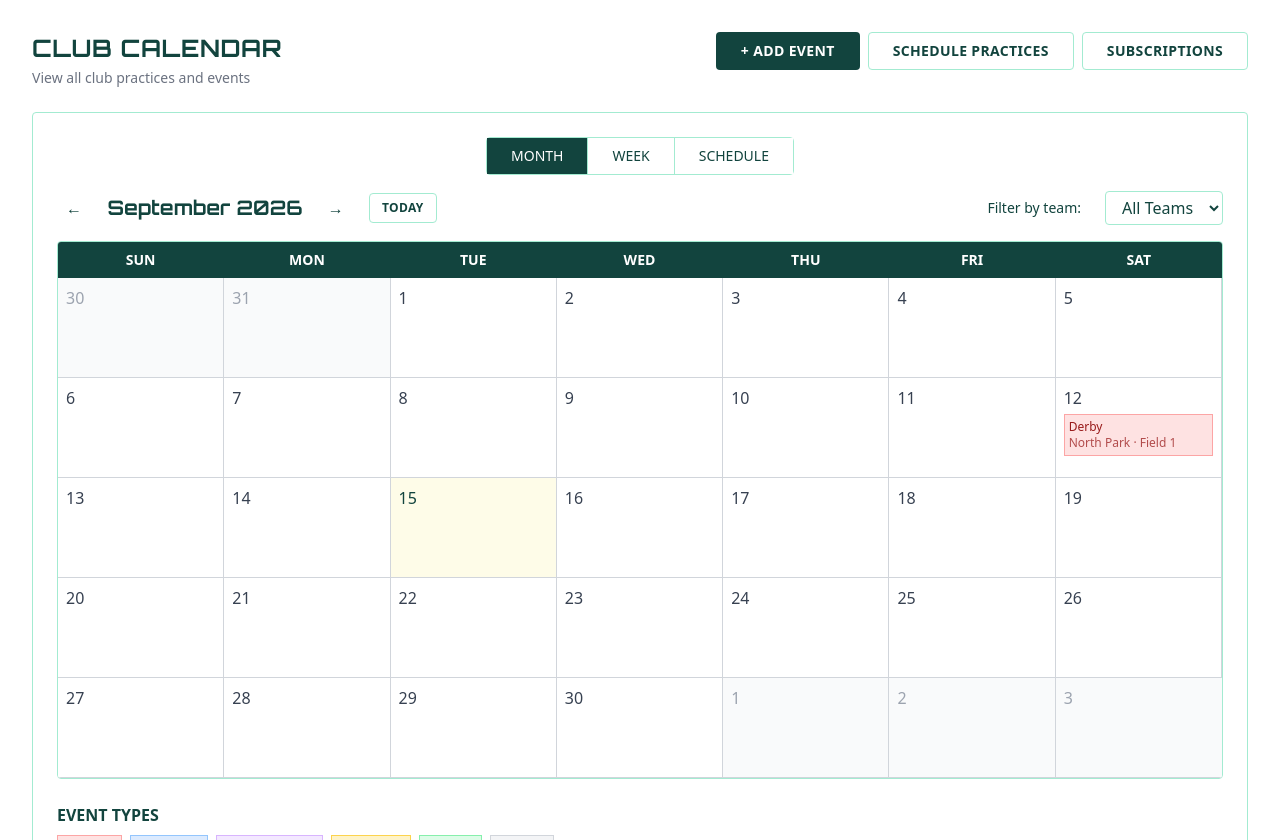
Test: A game on a field (migration 100) › warns on a size mismatch but never blocks it
The width and height of the screenshot is (1280, 840).
Click the text "Derby" at (1086, 426), box [1069,418,1102,435]
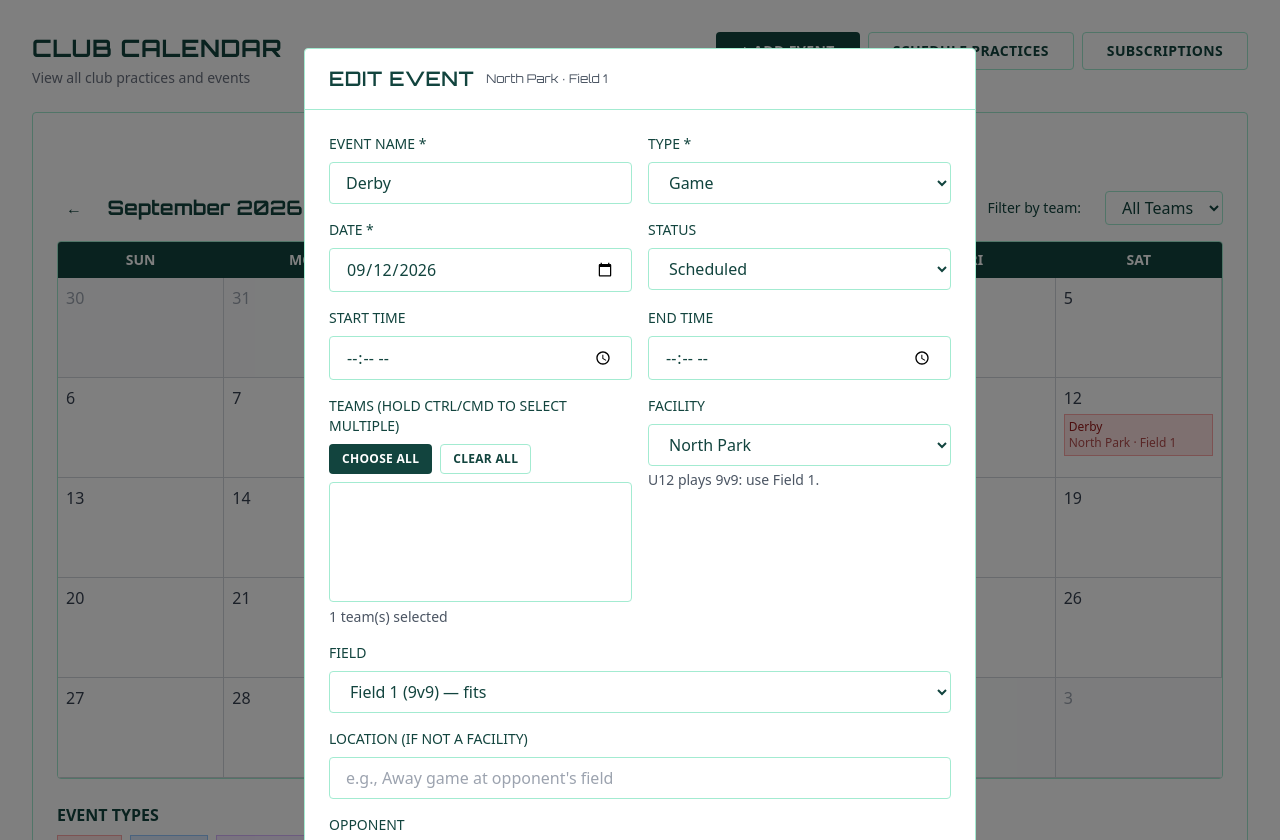
Result: the heading "Edit Event North Park · Field 1" is shown at [329,66,608,91]
Select "Field 2 (7v7) — size mismatch" in the dropdown labelled "Field" at (640, 692), box [329,671,951,713]
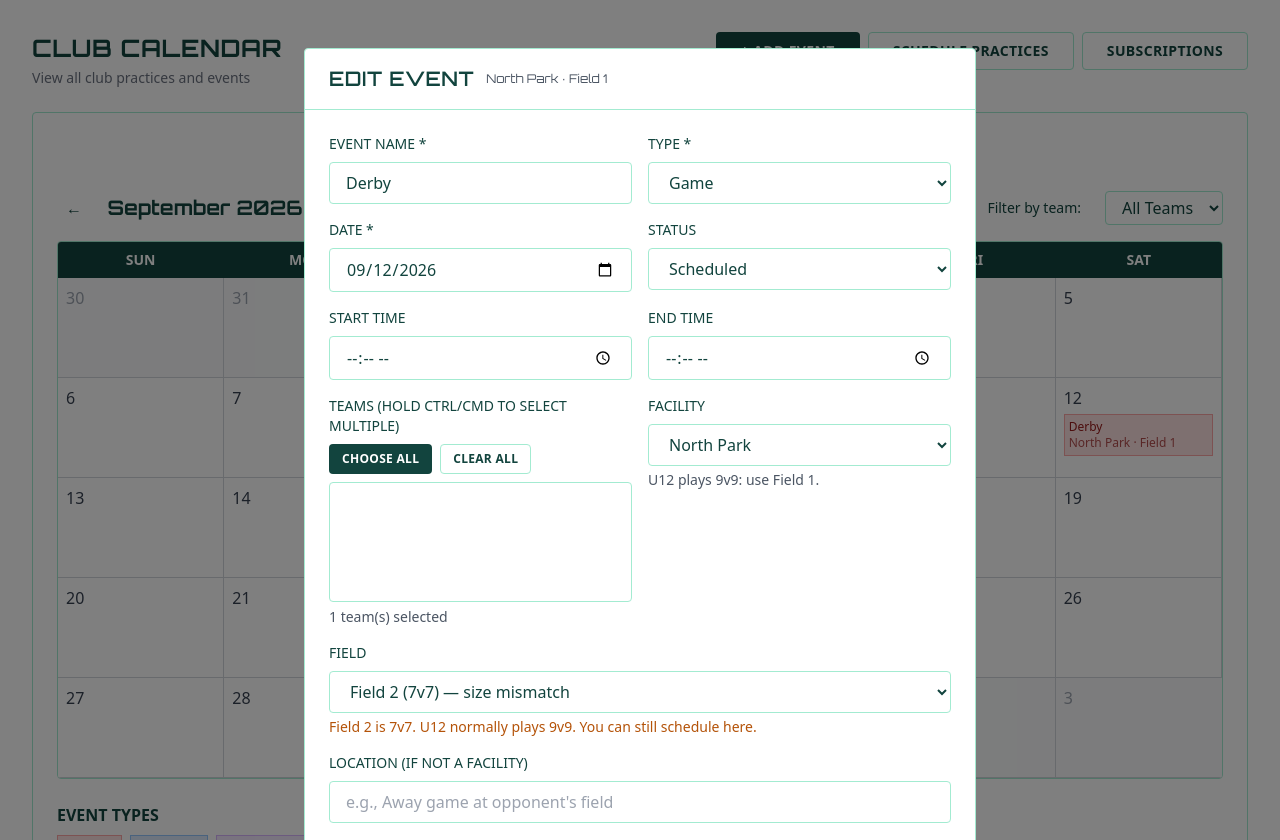
Result: the text with test id "field-size-warning" reads "Field 2 is 7v7. U12 normally plays 9v9. You can still schedule here." at [329,717,757,736]
